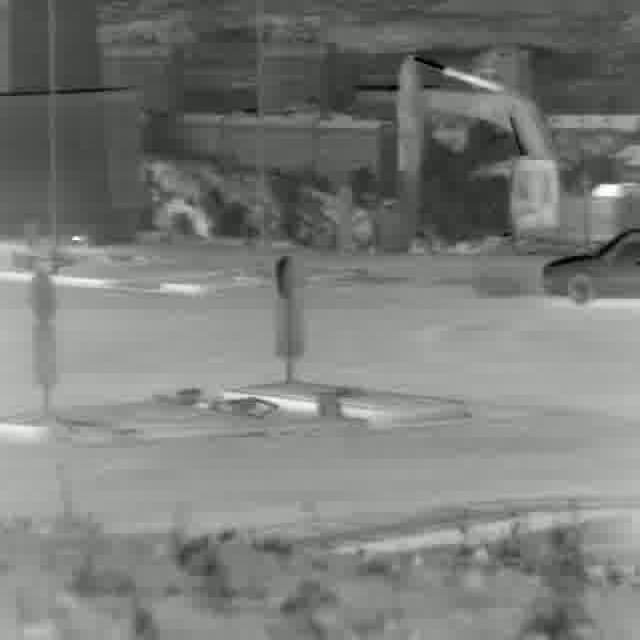Car: (542, 228, 640, 307)
